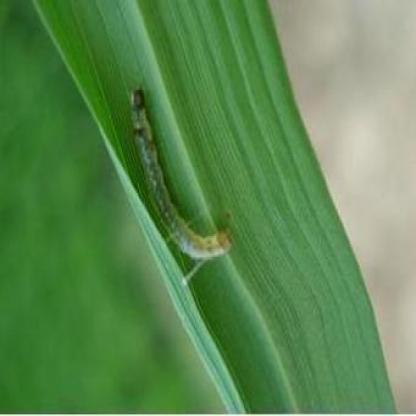leaf-folder: (114, 84, 242, 292)
